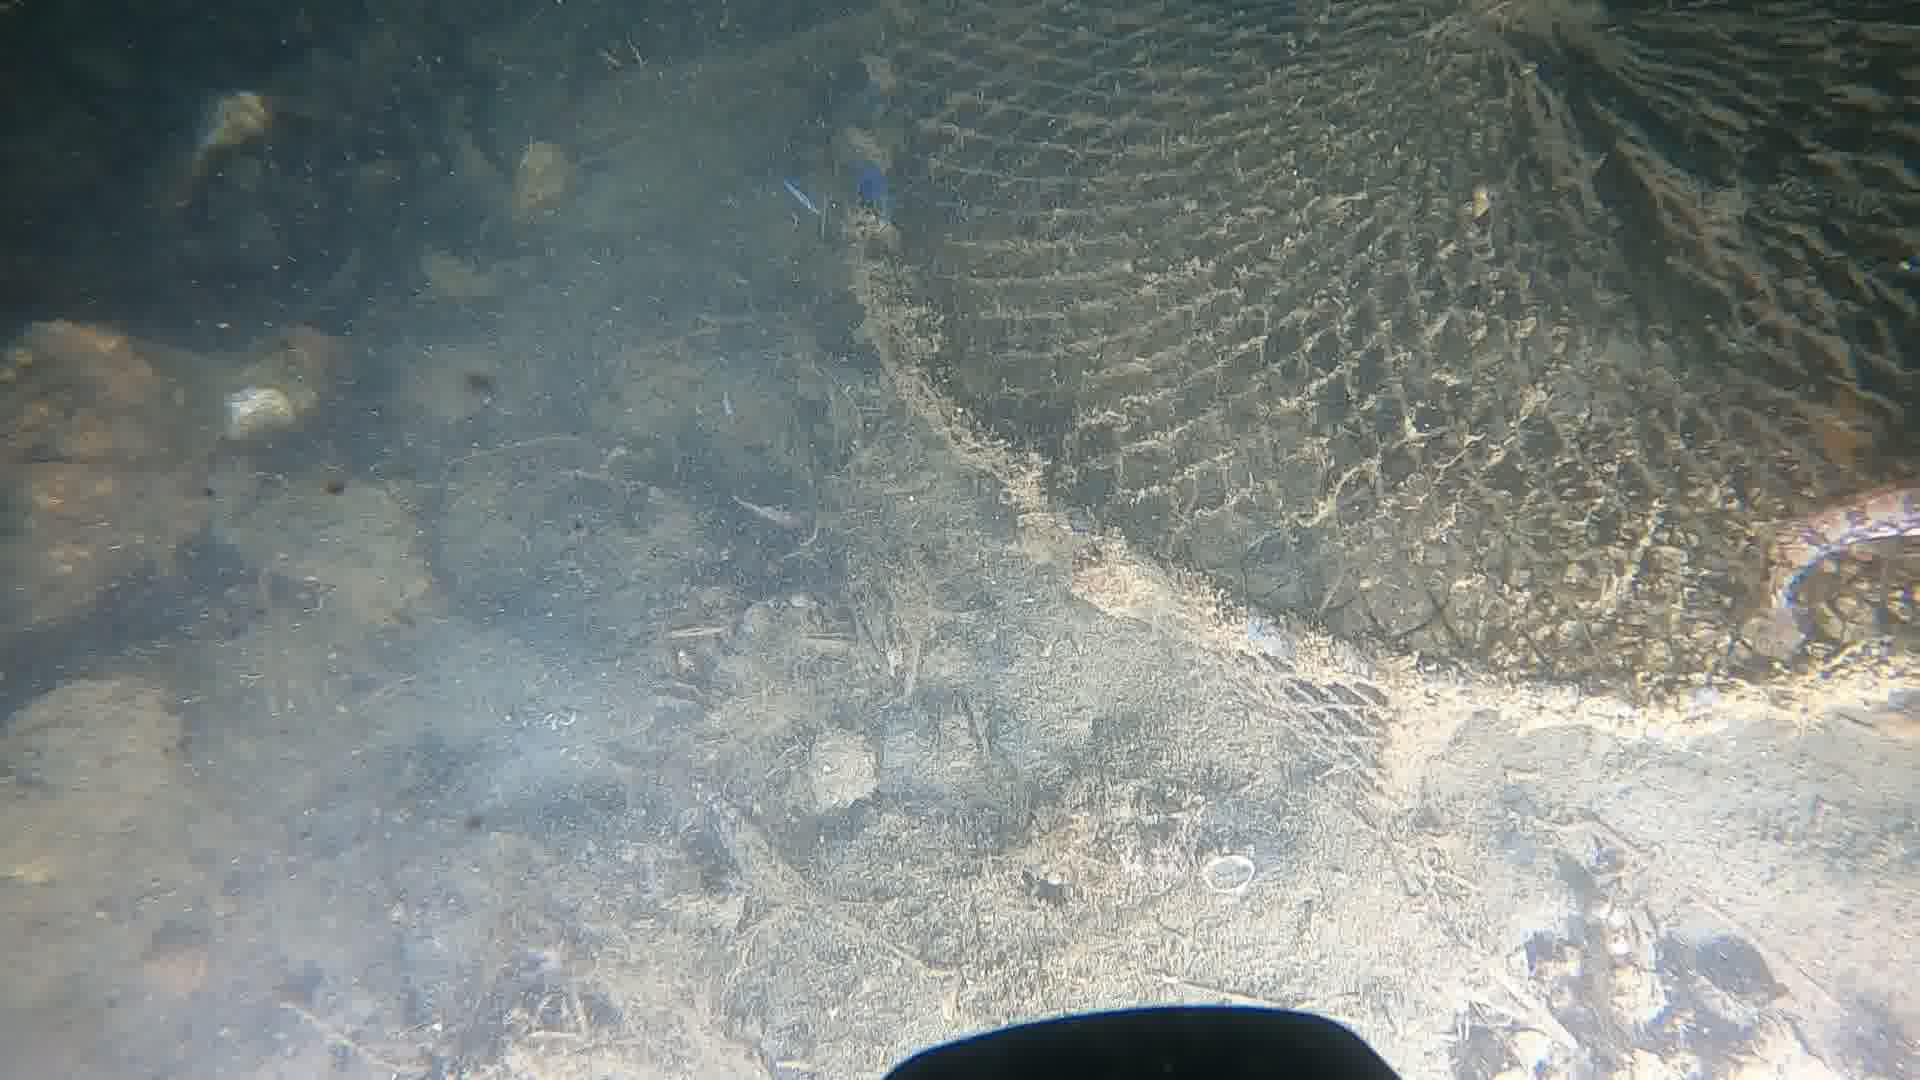circular fish trap: (840, 0, 1920, 835)
